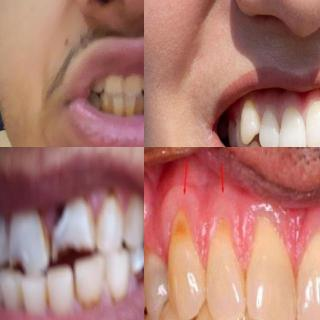cavities: (45, 184, 75, 258), (132, 250, 144, 294)
maligned: (233, 95, 260, 140), (306, 103, 320, 147)
stains: (71, 260, 106, 314), (28, 202, 48, 260), (107, 278, 129, 320), (37, 275, 54, 309), (124, 95, 137, 119), (100, 92, 112, 114), (113, 96, 125, 116), (135, 96, 144, 119)
